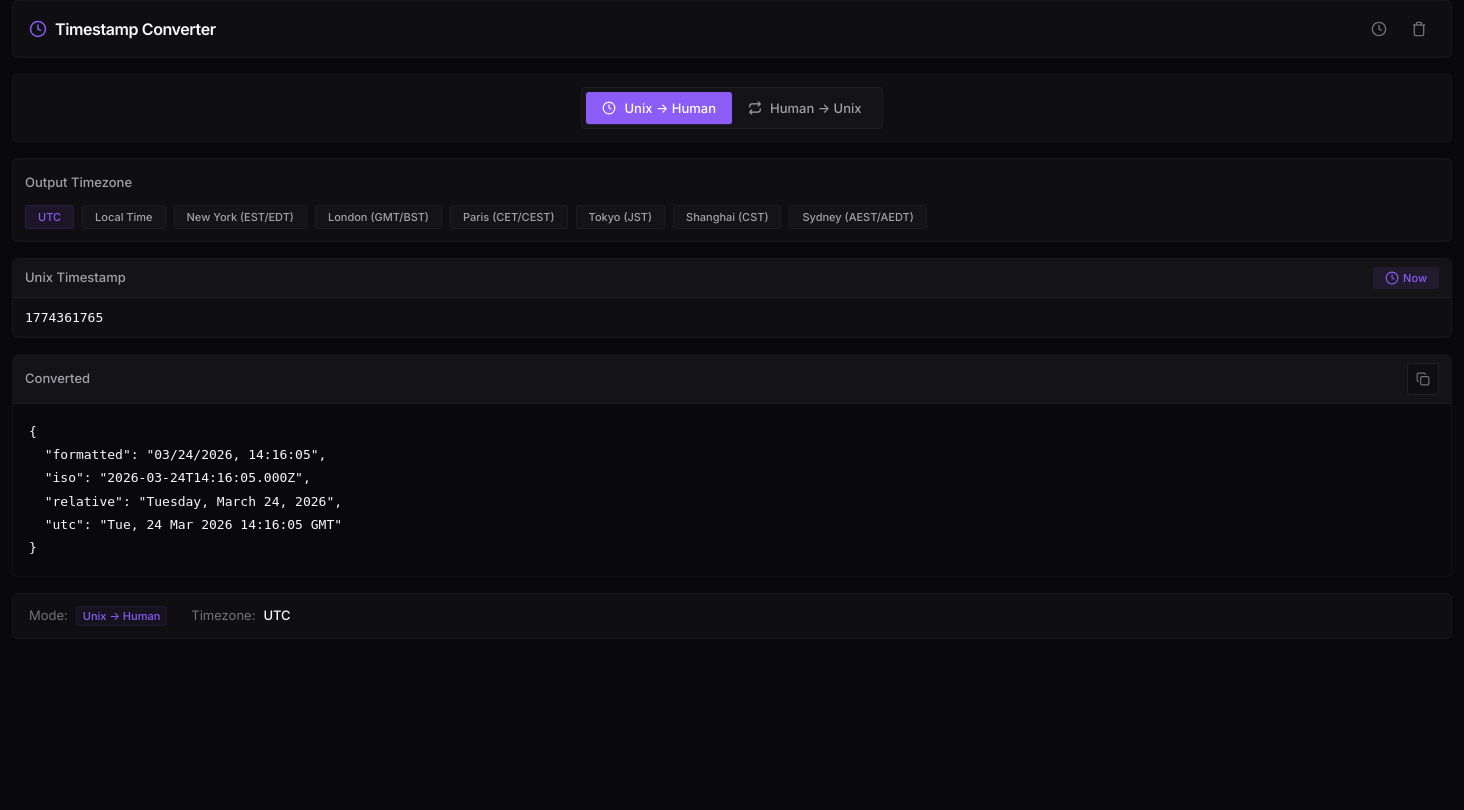
Scenario: TimestampTool › converts Unix timestamp to human readable date
Replace the text in the field with placeholder "Enter Unix timestamp (e.g., 1704067200)..." with "1609459200": (732, 317) [13,298,1451,336]
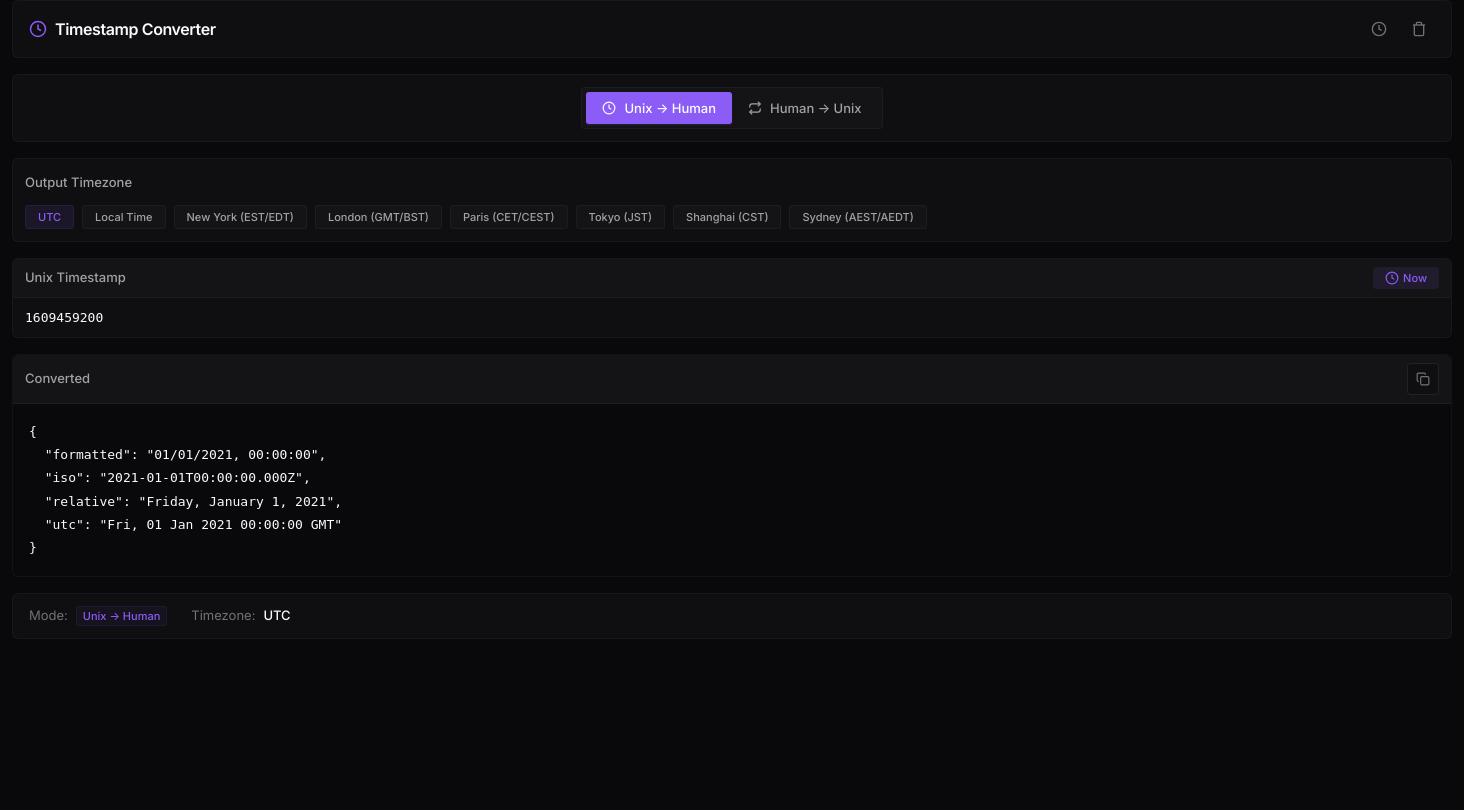
Now the text "2021" is shown, box [29,424,342,556]
